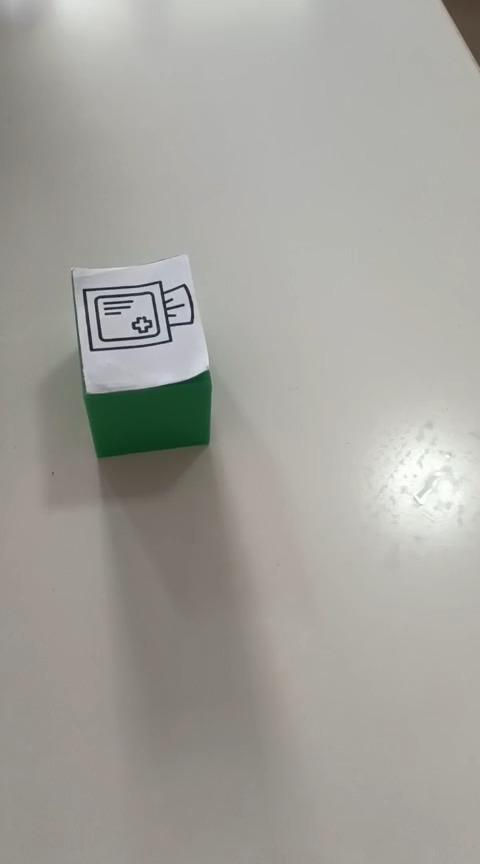Gauze: (69, 252, 212, 459)
